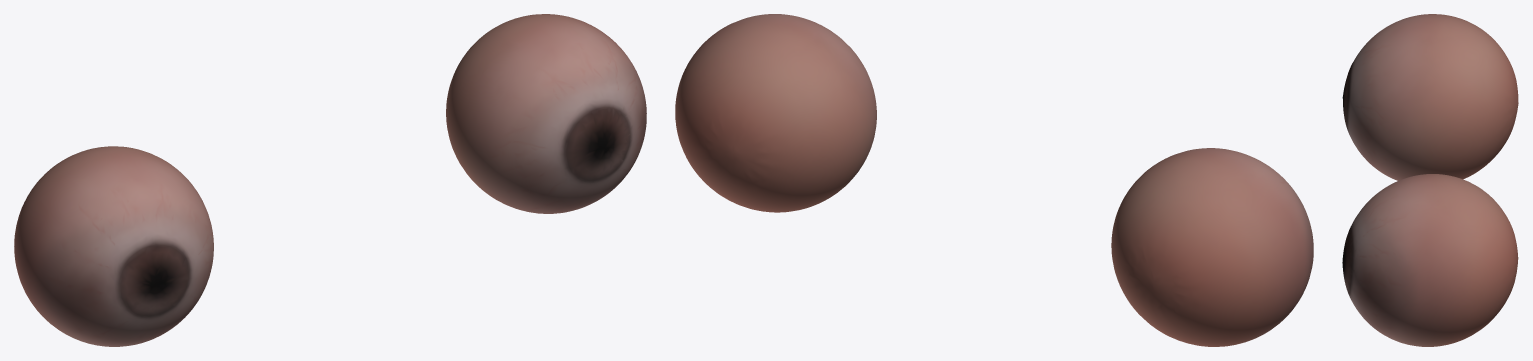
3 views of the same model, side by side, from view 1: azimuth 30°, elevation 25°; view 2: azimuth 150°, elevation 25°; view 3: azimuth 270°, elevation 25° (orthographic). The views are drawn at different scales.
Parts seen in each view (by area): view 1: Eyes; view 2: Eyes; view 3: Eyes.
Part boxes in pixels (x1,y1,x2,y2): Eyes: (14, 14, 646, 346); Eyes: (675, 14, 1313, 346); Eyes: (1342, 14, 1518, 346).
Bounding box in the file's own units: 0.1059 × 0.0345 × 0.0306.
